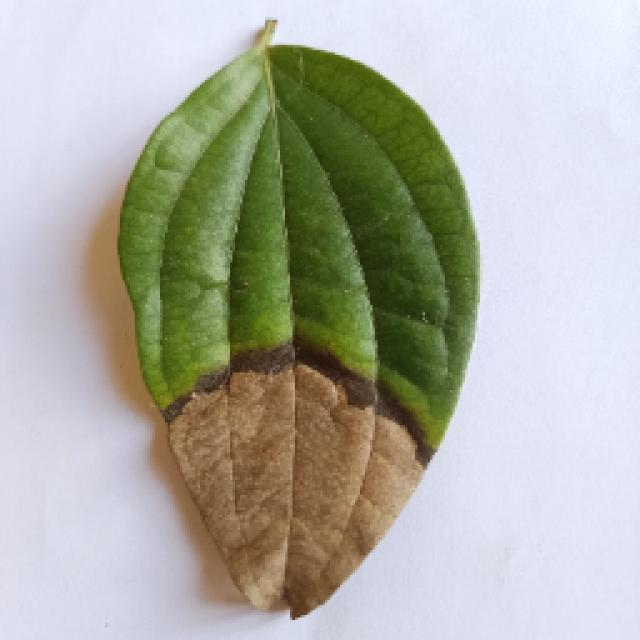footrot: (110, 35, 482, 617)
